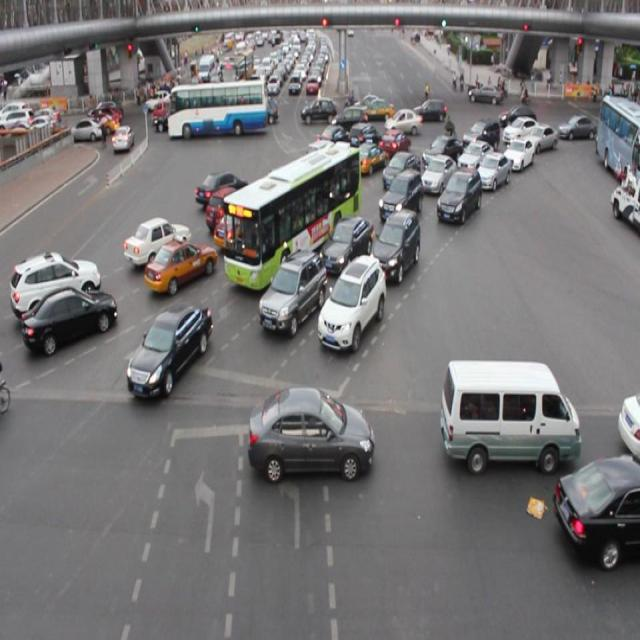car: (248, 386, 375, 479), (554, 453, 640, 566), (126, 303, 211, 397), (317, 253, 385, 351), (22, 287, 116, 354), (258, 248, 323, 334), (11, 252, 100, 312), (144, 238, 217, 297), (372, 208, 419, 281), (318, 217, 371, 274), (123, 215, 190, 260), (214, 205, 275, 251), (205, 188, 263, 234), (435, 168, 481, 224), (264, 160, 315, 204), (378, 169, 420, 219), (270, 186, 318, 228), (193, 173, 254, 204), (314, 162, 359, 202), (420, 154, 455, 197), (381, 152, 419, 191), (474, 152, 510, 192), (421, 135, 462, 170), (618, 396, 640, 460), (456, 139, 492, 177), (502, 115, 543, 143), (354, 142, 389, 174), (515, 124, 556, 150), (504, 136, 534, 171), (462, 120, 497, 149), (379, 128, 410, 160), (318, 123, 348, 145), (348, 122, 376, 142)
truck: (441, 359, 580, 471), (306, 140, 352, 178)
van: (223, 144, 360, 286)
